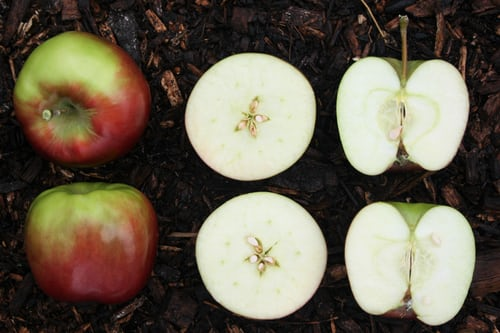apple: (335, 15, 479, 179), (12, 25, 152, 169), (183, 53, 319, 184), (22, 181, 160, 308), (192, 191, 327, 320), (342, 201, 475, 328)
